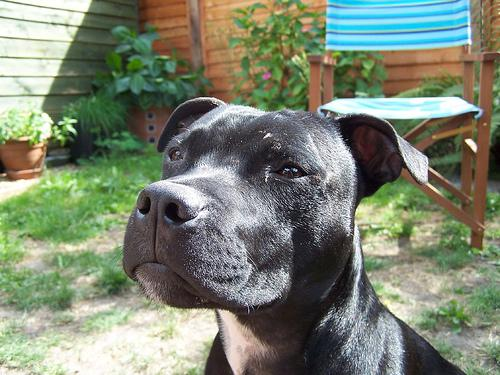dog-staffordshire_bull_terrier: (121, 95, 426, 306)
